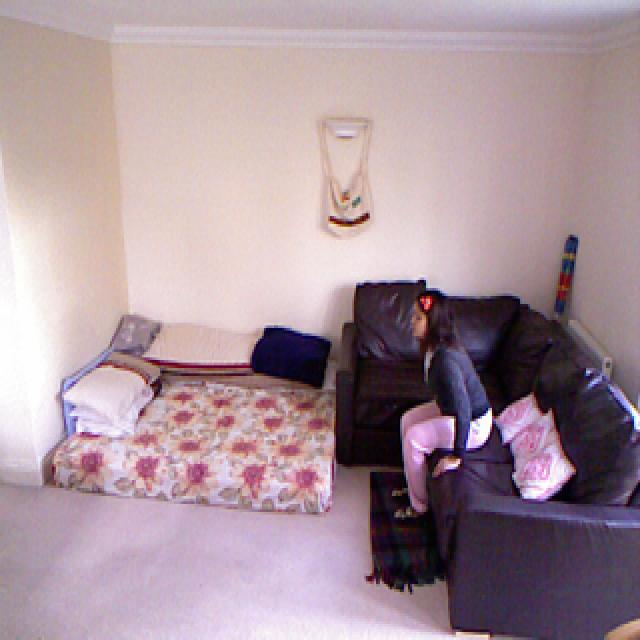sitting: (391, 292, 494, 524)
